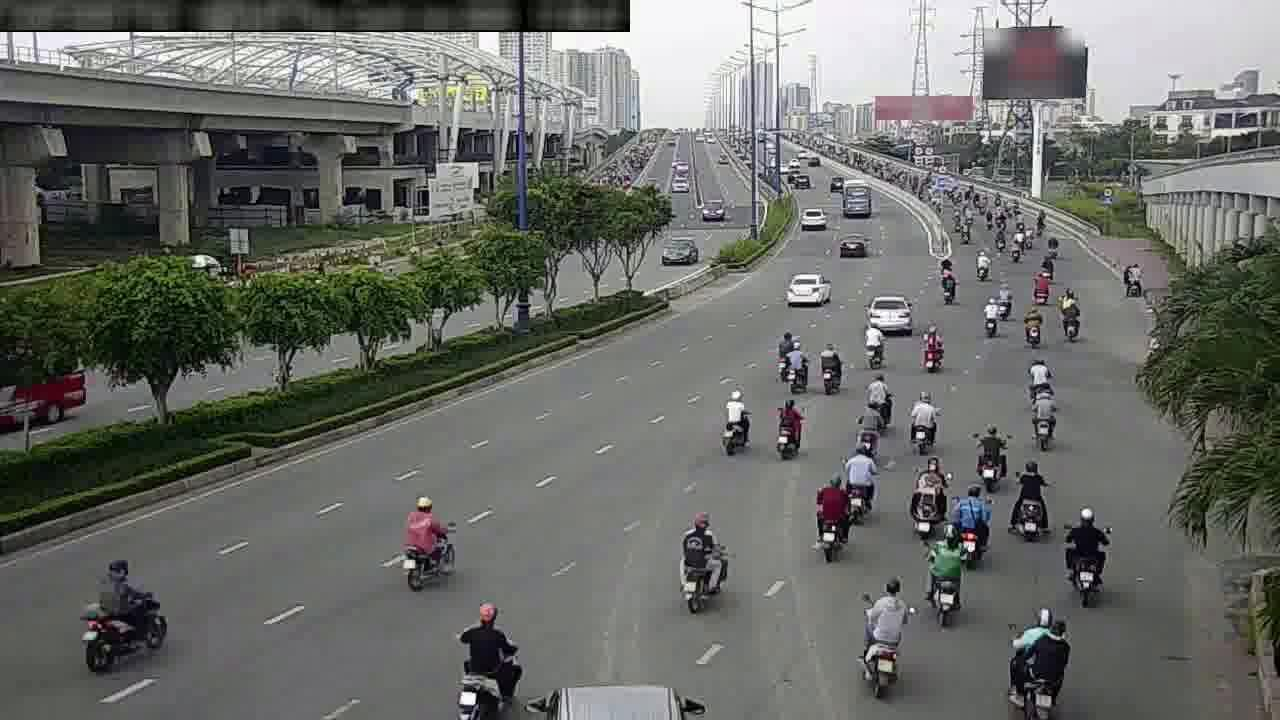container: (866, 291, 916, 334), (782, 264, 829, 307)
motorbike: (83, 558, 170, 670), (453, 602, 528, 710), (1003, 604, 1068, 706), (394, 493, 459, 592), (857, 582, 909, 684), (672, 517, 728, 611), (1059, 505, 1112, 600), (918, 534, 967, 617), (943, 484, 991, 563), (806, 474, 851, 556), (1005, 464, 1050, 540), (907, 458, 947, 533), (713, 387, 755, 458), (837, 446, 877, 519), (767, 393, 806, 458), (971, 422, 1009, 486), (904, 390, 939, 453), (1024, 387, 1059, 446), (812, 339, 844, 394), (861, 370, 894, 423), (851, 398, 882, 452), (1020, 352, 1053, 400), (916, 323, 947, 371), (858, 320, 888, 368), (1056, 299, 1085, 344), (1018, 303, 1045, 347), (1118, 261, 1148, 300), (980, 295, 1002, 338), (991, 279, 1016, 316), (787, 342, 807, 388), (772, 329, 792, 375), (935, 266, 959, 304), (1033, 267, 1057, 302), (970, 247, 993, 283), (1004, 236, 1024, 267)
